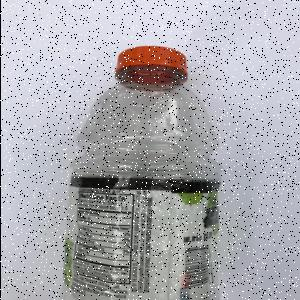Plastic-bottle: (64, 47, 226, 300)
